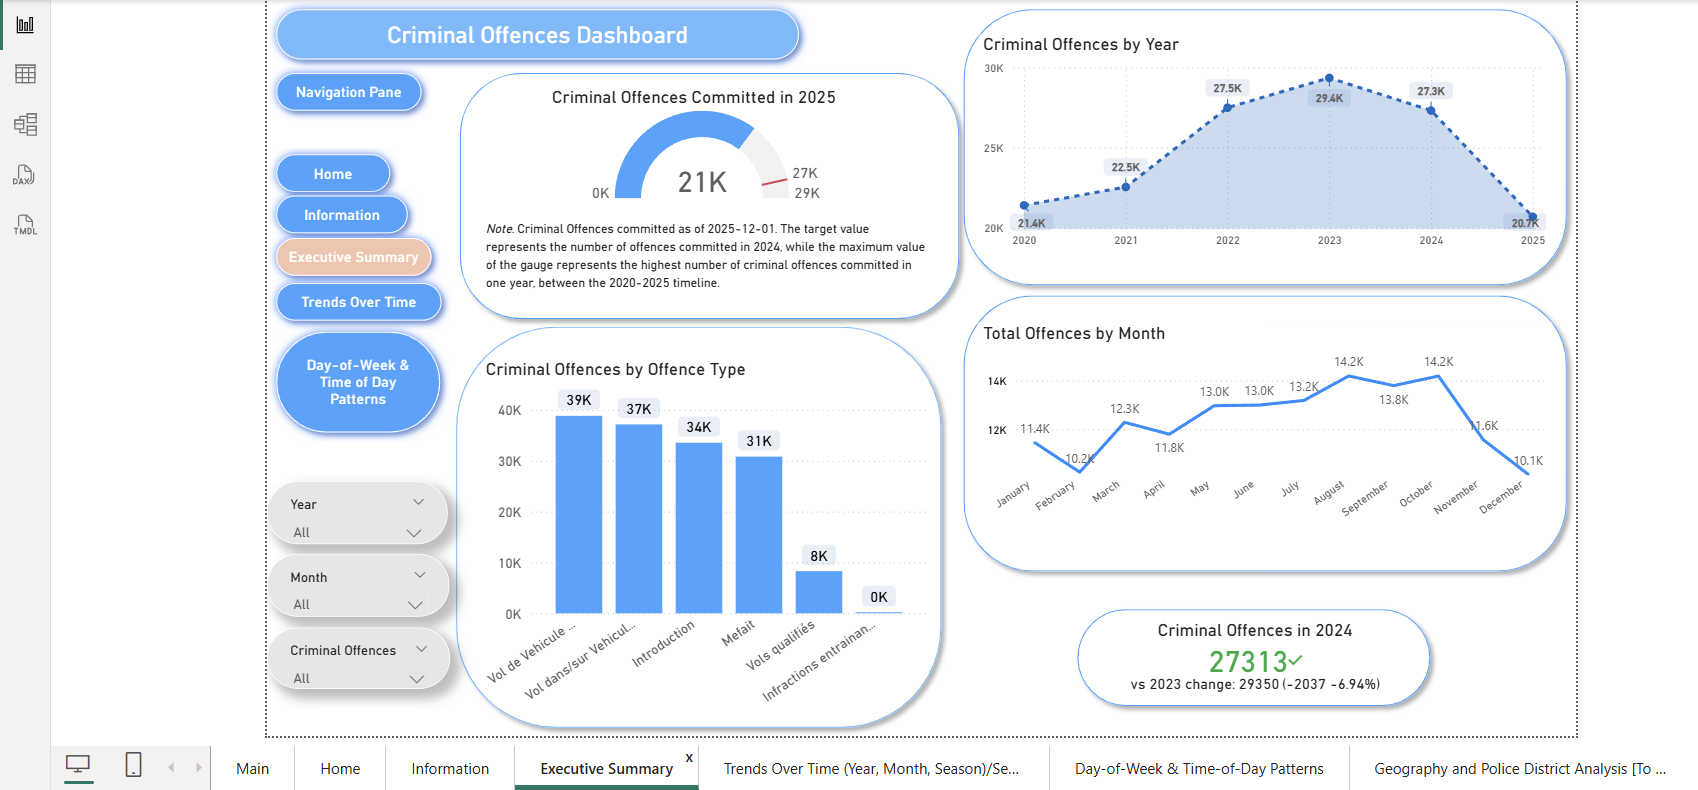

This screenshot's page, from the dashboard's own definition file:
{"tool":"powerbi","page":{"name":"Executive Summary","canvas":[1280,720],"ordinal":3},"visuals":[{"type":"shape","box":[783.3,587.1,363.1,112.7],"z":0},{"type":"shape","box":[179.5,62.6,506.4,258.8],"z":1000},{"type":"shape","box":[176.7,310.3,492.5,410.4],"z":2000},{"type":"shape","box":[672,279.7,608,288],"z":3000},{"type":"shape","box":[672,0,608,288],"z":4000},{"type":"lineChart","title":"Criminal Offences by Year ","fields":{"Y":["CountNonNull(Data.Categorie d'Incident)"],"Category":["Data.Date - Annee"]},"box":[695.7,33.4,560.7,217],"z":5000},{"type":"columnChart","title":"Criminal Offences by Offence Type","fields":{"Category":["Data.Categorie d'Incident"],"Y":["CountNonNull(Data.Criminal Offences)"]},"box":[208.7,350.6,442.4,349.2],"z":6000},{"type":"kpi","title":"Criminal Offences in 2024 ","fields":{"Indicator":["Data.Total Offences 2024"],"Goal":["Data.Total Offences 2023"],"TrendLine":["Data.Date - Annee"]},"box":[830.6,606.6,272.7,76.5],"z":7000},{"type":"lineChart","title":"Total Offences by Month ","fields":{"Category":["Data.Date - Mois"],"Y":["CountNonNull(Data.Date - Mois)"]},"box":[695.7,315.8,560.7,208.7],"z":8000},{"type":"shape","box":[0,0,529.5,67.3],"z":9000},{"type":"shape","box":[0,62.4,160.2,55],"z":10000},{"type":"shape","box":[0,141.8,129.6,55],"z":11000},{"type":"shape","box":[0,182.2,146.7,55],"z":12000},{"type":"shape","box":[0,223.8,170,55],"z":13000},{"type":"slicer","title":"Year","fields":{"Values":["Data.Date - Annee"]},"box":[0,470.4,176.7,61.2],"z":14000},{"type":"slicer","fields":{"Values":["Data.Date - Mois"]},"box":[0,541.4,178.1,61.2],"z":15000},{"type":"slicer","fields":{"Values":["Data.Criminal Offences"]},"box":[0,613.7,179.5,59.8],"z":16000},{"type":"gauge","title":"Criminal Offences Committed in 2025","fields":{"Y":["Data.Total Offences 2025"],"TargetValue":["Data.Total Offences 2024"],"MaxValue":["Data.Total Offences 2023"]},"box":[274.1,84.9,311.7,119.7],"z":17000},{"type":"textbox","box":[208.7,208.7,441,86.3],"z":18000},{"type":"shape","box":[0,267.6,179.8,54.9],"z":19000},{"type":"shape","box":[0,315.6,178.4,116.6],"z":20000}]}

Visuals, with their boxes on the page's 1280x720 design canvas (x1, y1, x2, y2). These are canvas units, not pixel positions in the 1698x790 screenshot, which may show the page scaled, cropped or inside an application window:
shape: l=783, t=587, r=1146, b=700
shape: l=180, t=63, r=686, b=321
shape: l=177, t=310, r=669, b=721
shape: l=672, t=280, r=1280, b=568
shape: l=672, t=0, r=1280, b=288
"Criminal Offences by Year " lineChart: l=696, t=33, r=1256, b=250
"Criminal Offences by Offence Type" columnChart: l=209, t=351, r=651, b=700
"Criminal Offences in 2024 " kpi: l=831, t=607, r=1103, b=683
"Total Offences by Month " lineChart: l=696, t=316, r=1256, b=524
shape: l=0, t=0, r=530, b=67
shape: l=0, t=62, r=160, b=117
shape: l=0, t=142, r=130, b=197
shape: l=0, t=182, r=147, b=237
shape: l=0, t=224, r=170, b=279
"Year" slicer: l=0, t=470, r=177, b=532
slicer - Data.Date - Mois: l=0, t=541, r=178, b=603
slicer - Data.Criminal Offences: l=0, t=614, r=180, b=674
"Criminal Offences Committed in 2025" gauge: l=274, t=85, r=586, b=205
textbox: l=209, t=209, r=650, b=295
shape: l=0, t=268, r=180, b=322
shape: l=0, t=316, r=178, b=432
